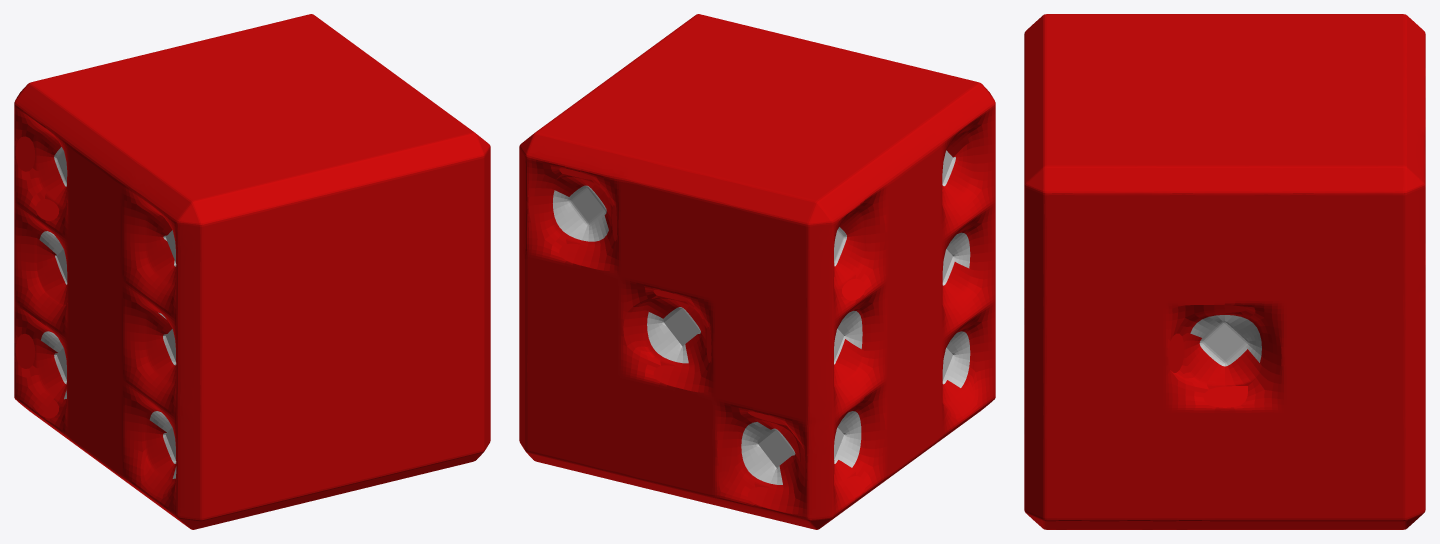
The model's file is die2.obj.
The picture shows the model from 3 angles, left to right: view 1: azimuth 30°, elevation 25°; view 2: azimuth 150°, elevation 25°; view 3: azimuth 270°, elevation 25°; orthographic projection. The views are drawn at different scales.
Parts seen in each view (by area): view 1: Cube; view 2: Cube; view 3: Cube.
Part boxes in pixels (x1,y1,x2,y2): Cube: [14, 14, 490, 529]; Cube: [519, 14, 995, 529]; Cube: [1024, 14, 1425, 529].
Size of the model in its own units: 2 by 2 by 2.
